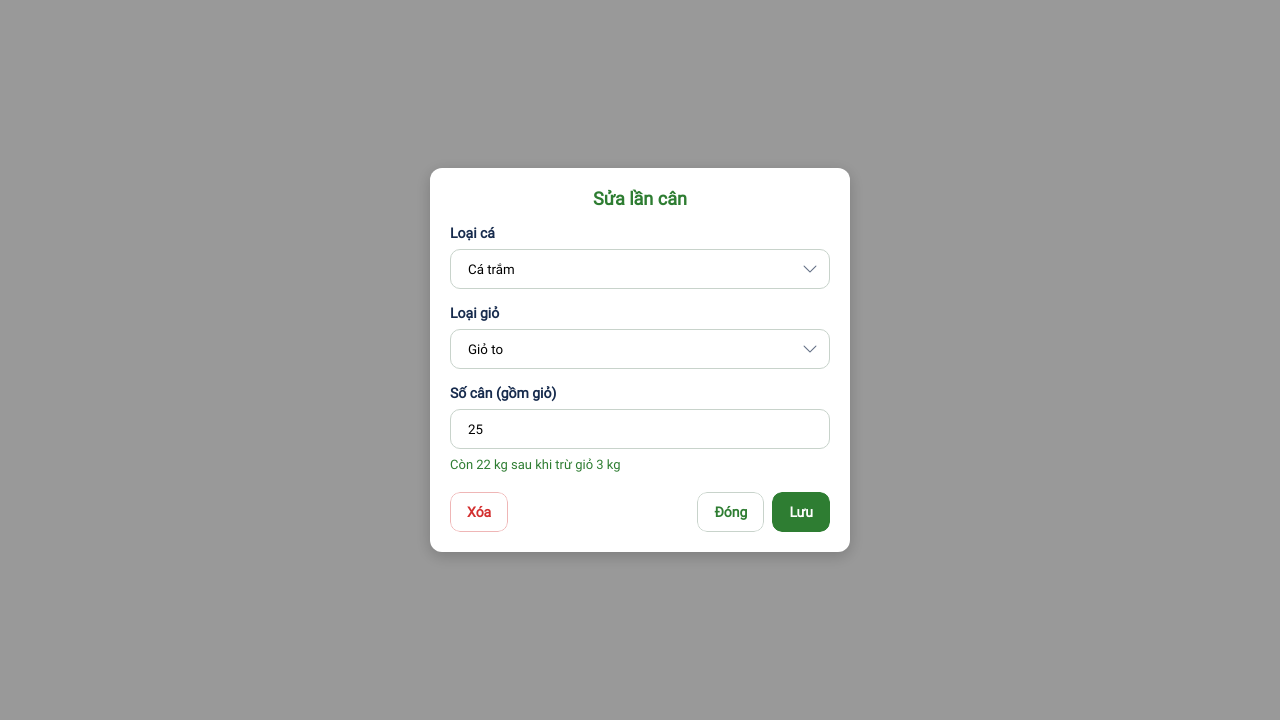
Test: xem trước số cân thực: dùng trọng lượng giỏ đã lưu của lần cân
The image size is (1280, 720).
Expected: the text with class "net-preview" reads "Còn 22 kg sau khi trừ giỏ 3 kg", [450,457,621,472]
Replace the text in the field with id "editFishWeight" with "26,5" at (640, 429), box [452,411,829,447]
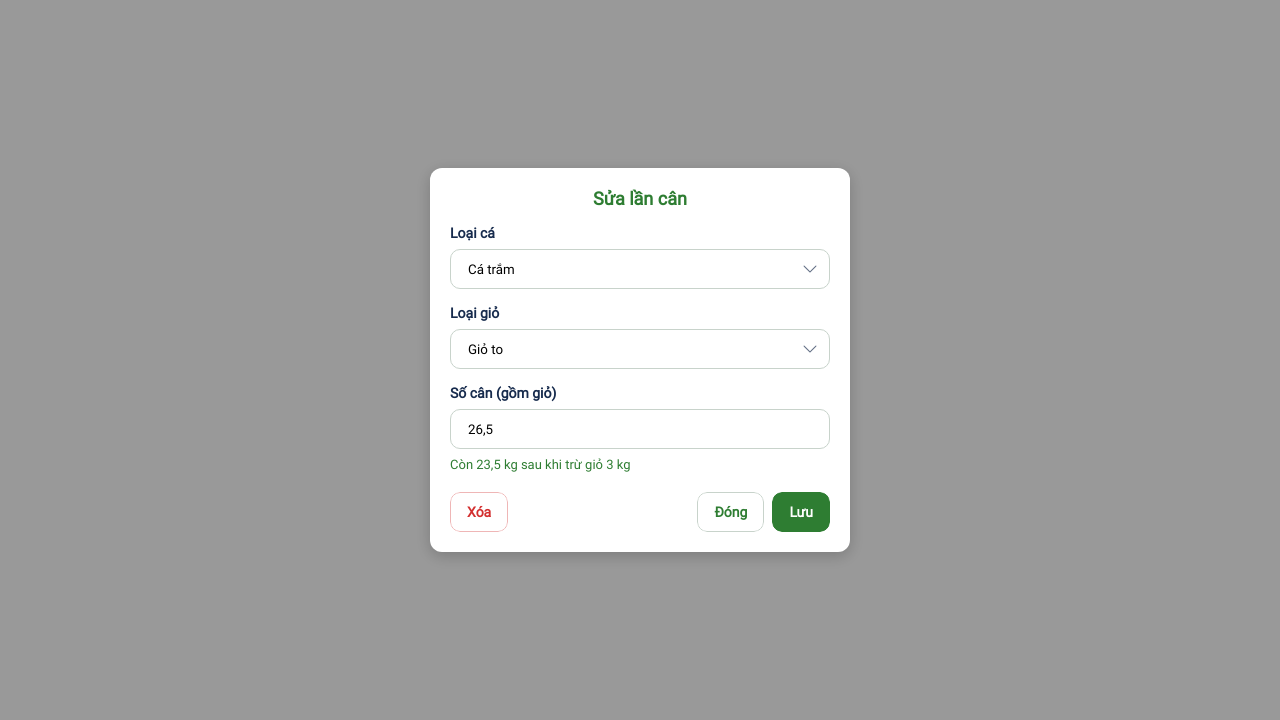
Now the text with class "net-preview" reads "Còn 23,5 kg sau khi trừ giỏ 3 kg", box [450,457,630,472]
